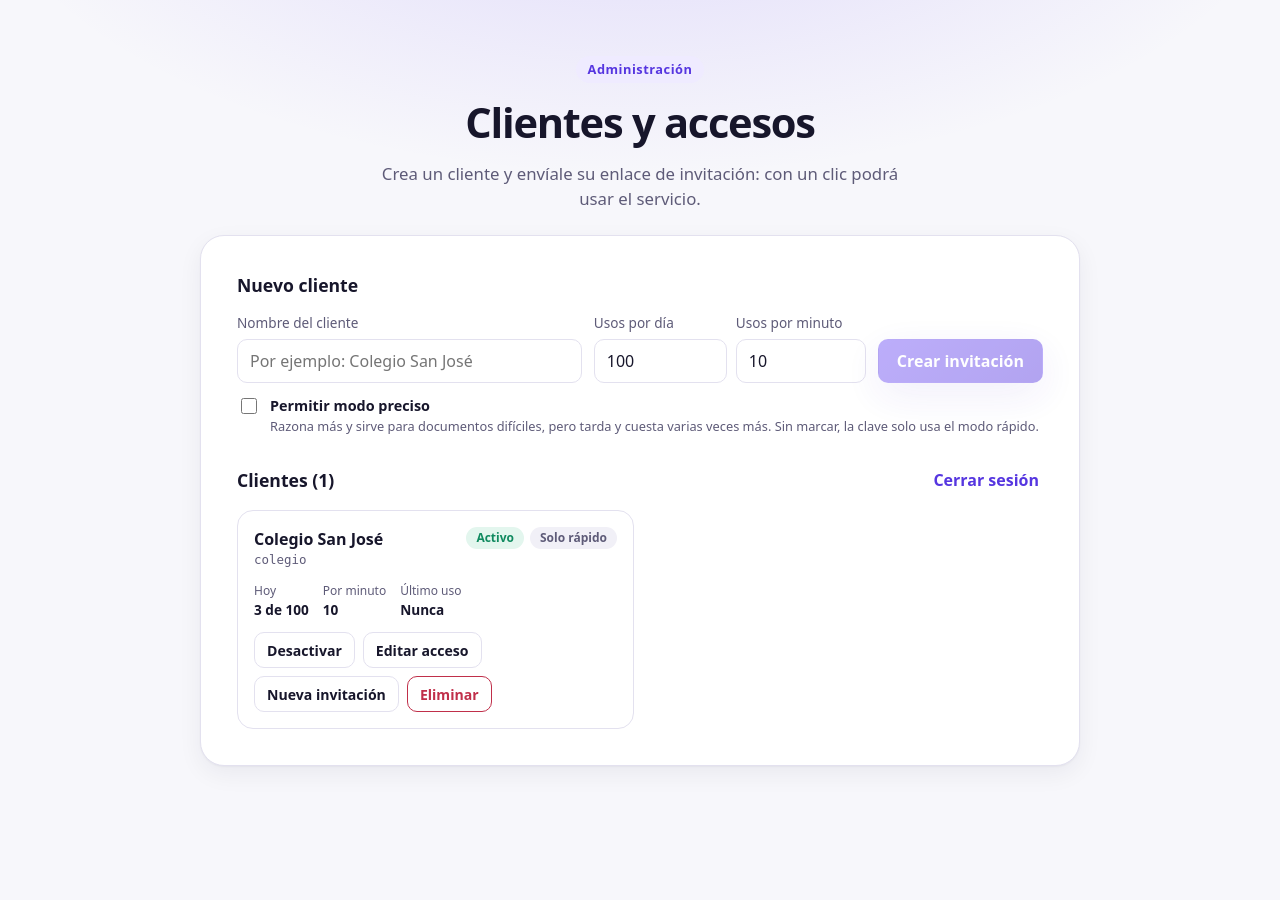
it: AdminApp › asks for confirmation before replacing a client's invitation
Click the button "Nueva invitación" at (326, 694), box [254, 676, 399, 712]
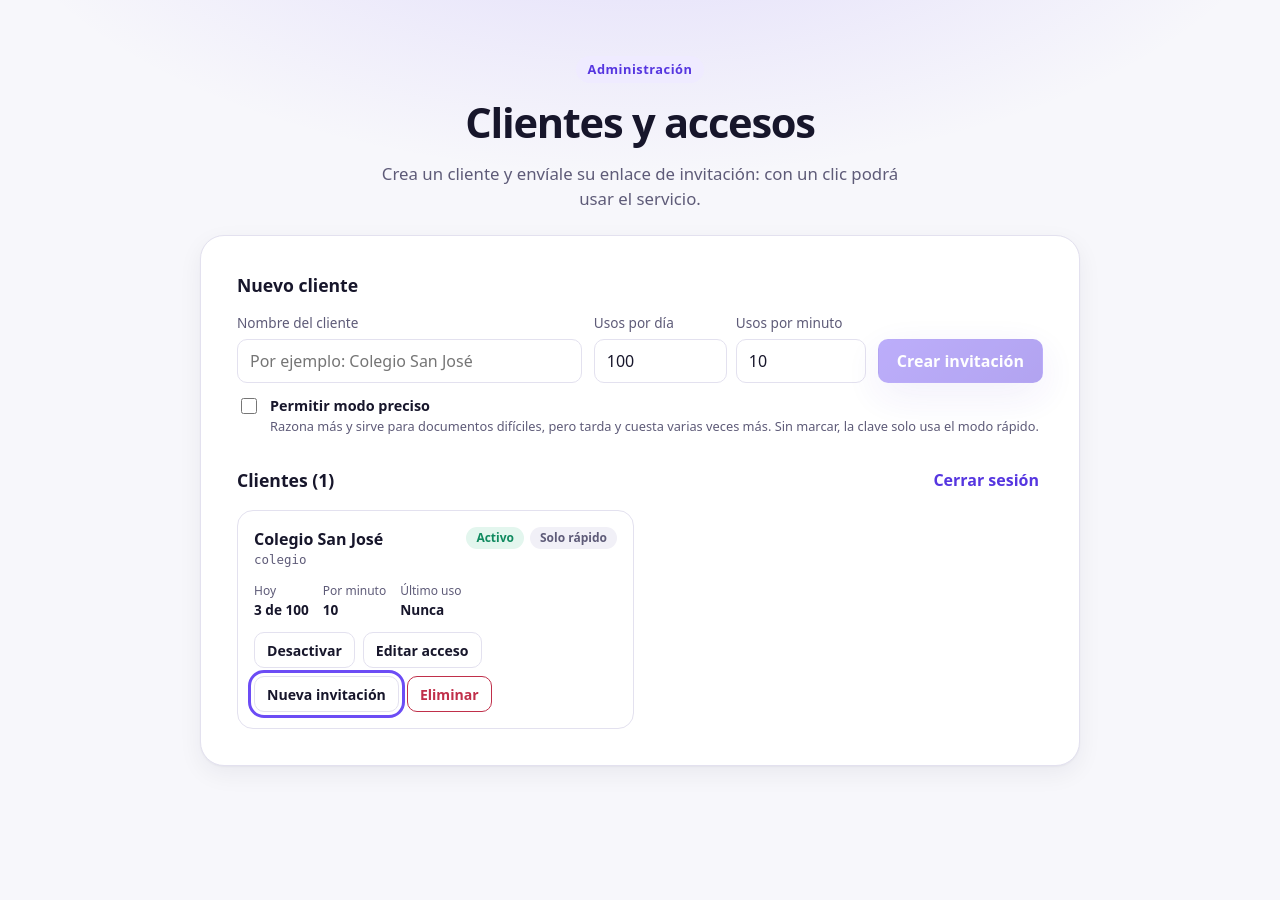
Click the button "Nueva invitación" at (326, 694), box [254, 676, 399, 712]
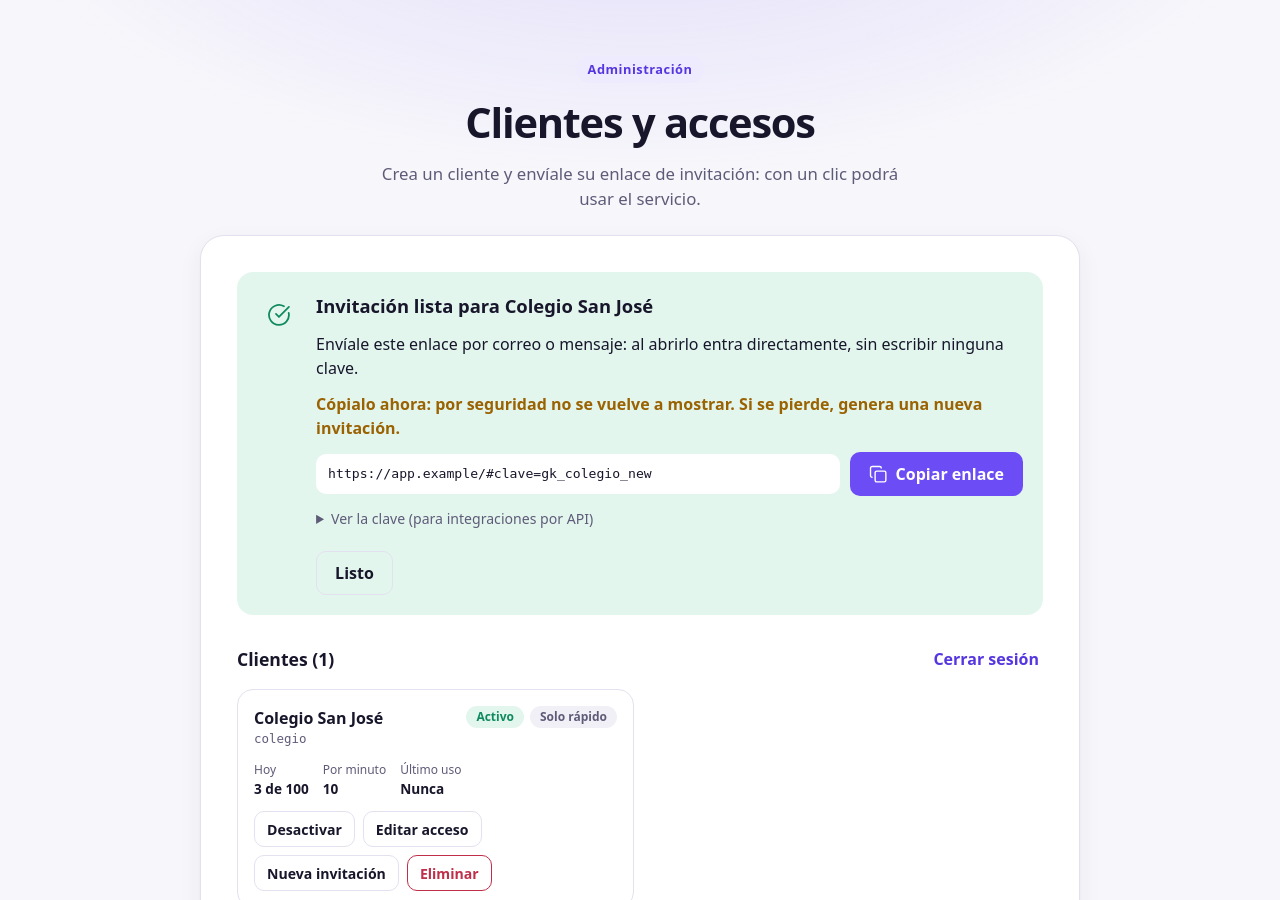
Check: the heading "Invitación lista para Colegio San José" is shown, box [316, 292, 653, 320]
